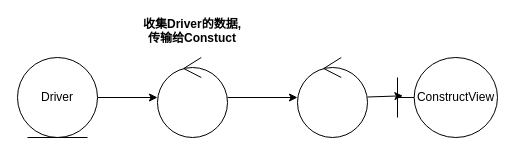
The diagram is 515 pixels wide and 155 high, and some of its shapes have lost their labels. The shapes that lost their labels are listed below. From the top down, each one's box as (x1, y1, x2, y2) in pixels, then its label:
(156, 56, 228, 138): BuilderNew
(296, 56, 368, 138): Construct
